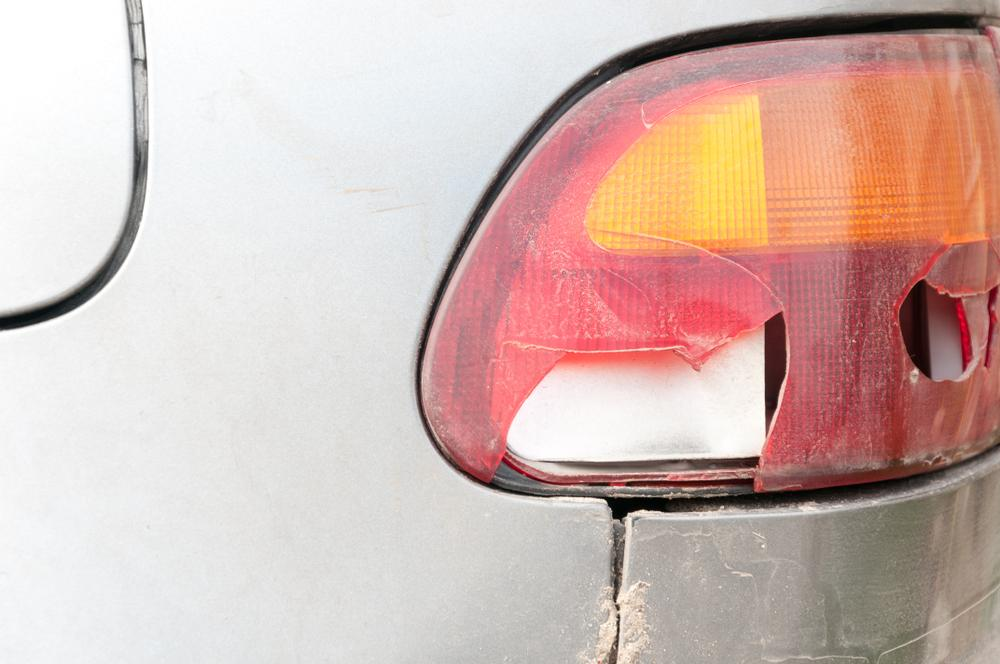lamp broken: (419, 24, 1000, 500)
